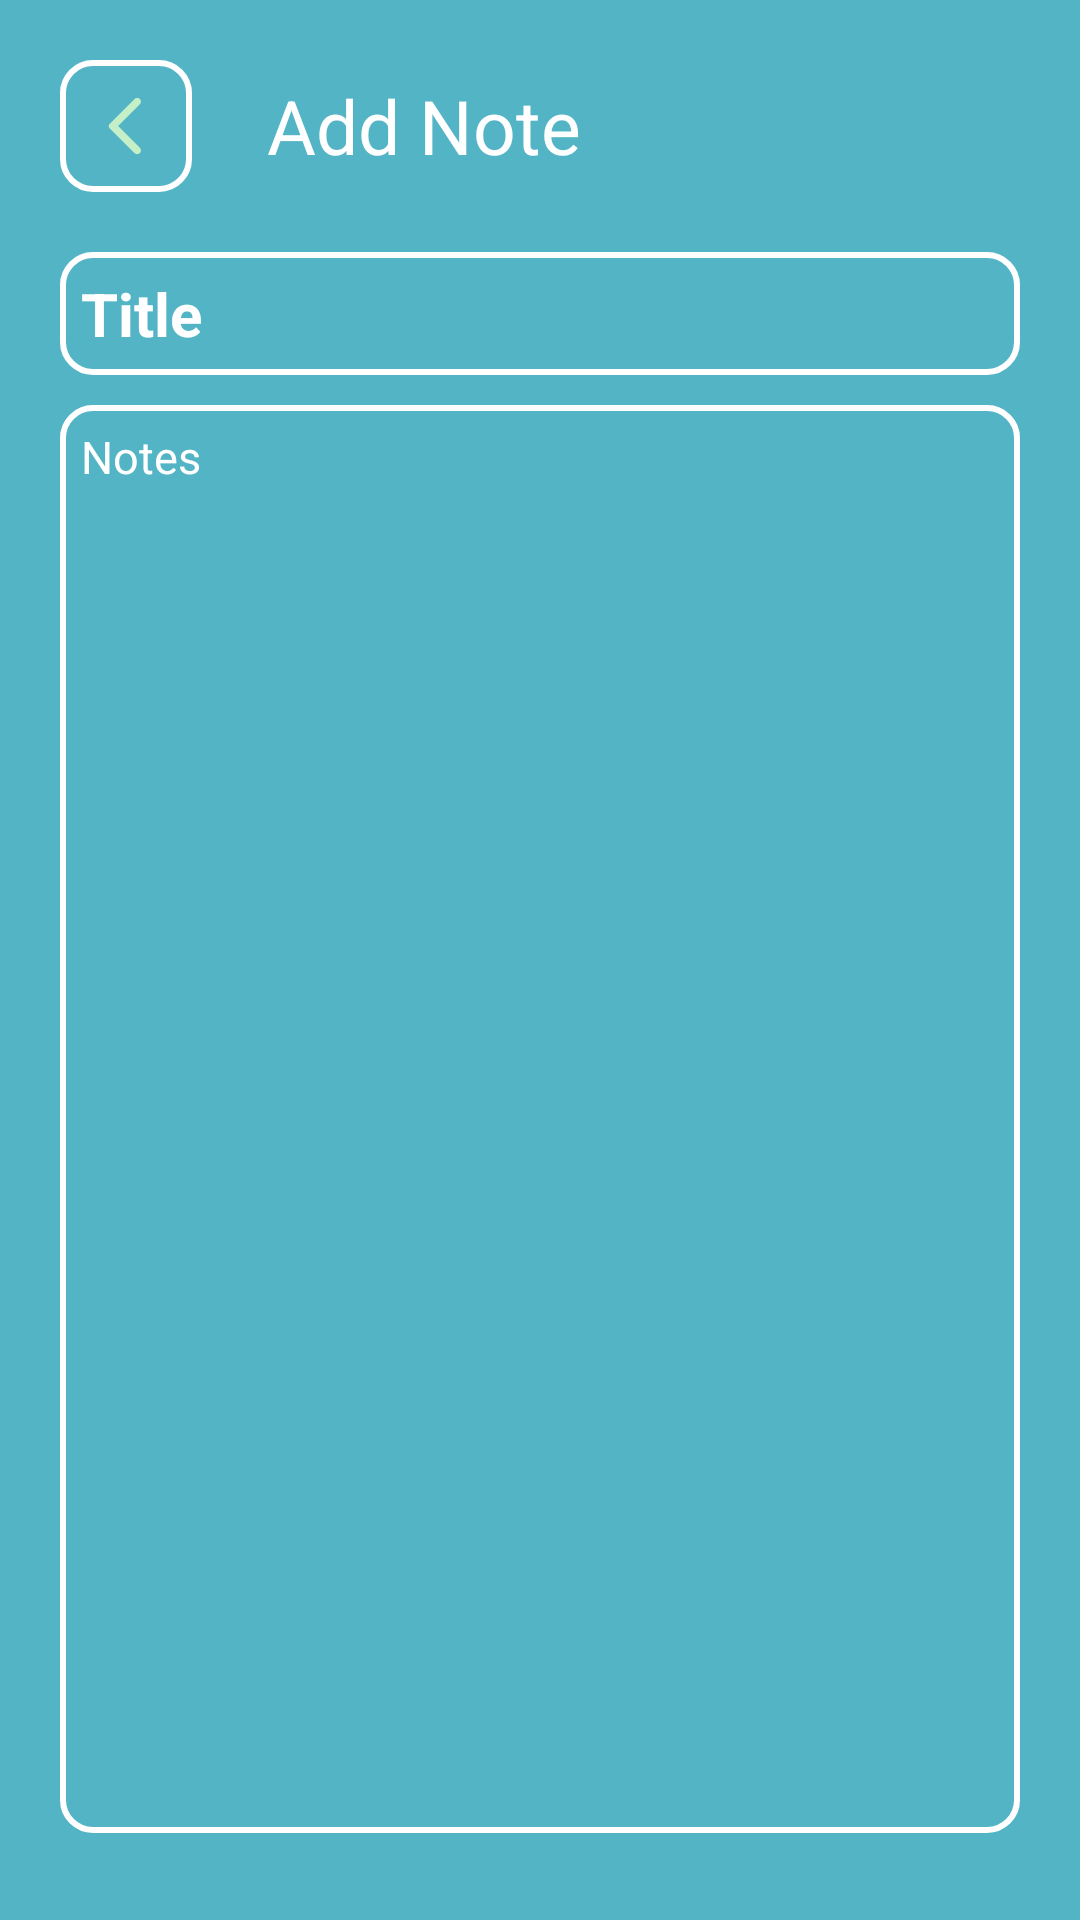

Where icons sit on this 1080×1920 app screen, as (x1=x1, y1=y1, x2=x2, y2=y2):
arrow back: (x1=60, y1=60, x2=192, y2=192)
